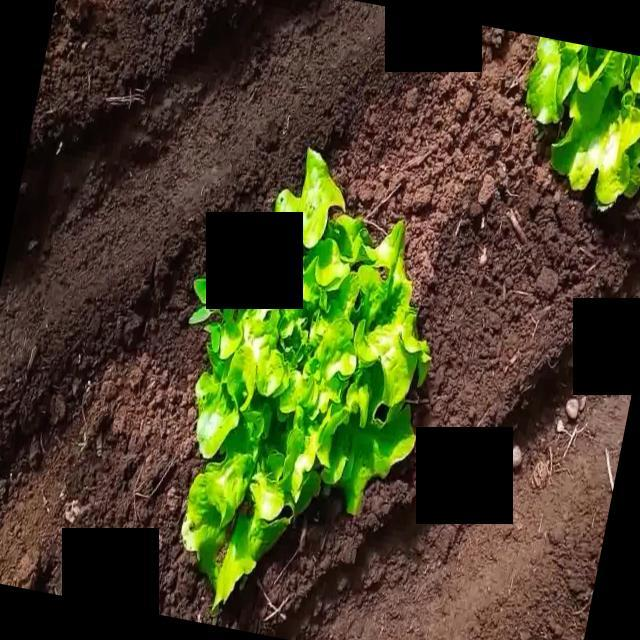Lettuce: (180, 145, 427, 605), (523, 34, 640, 215)
